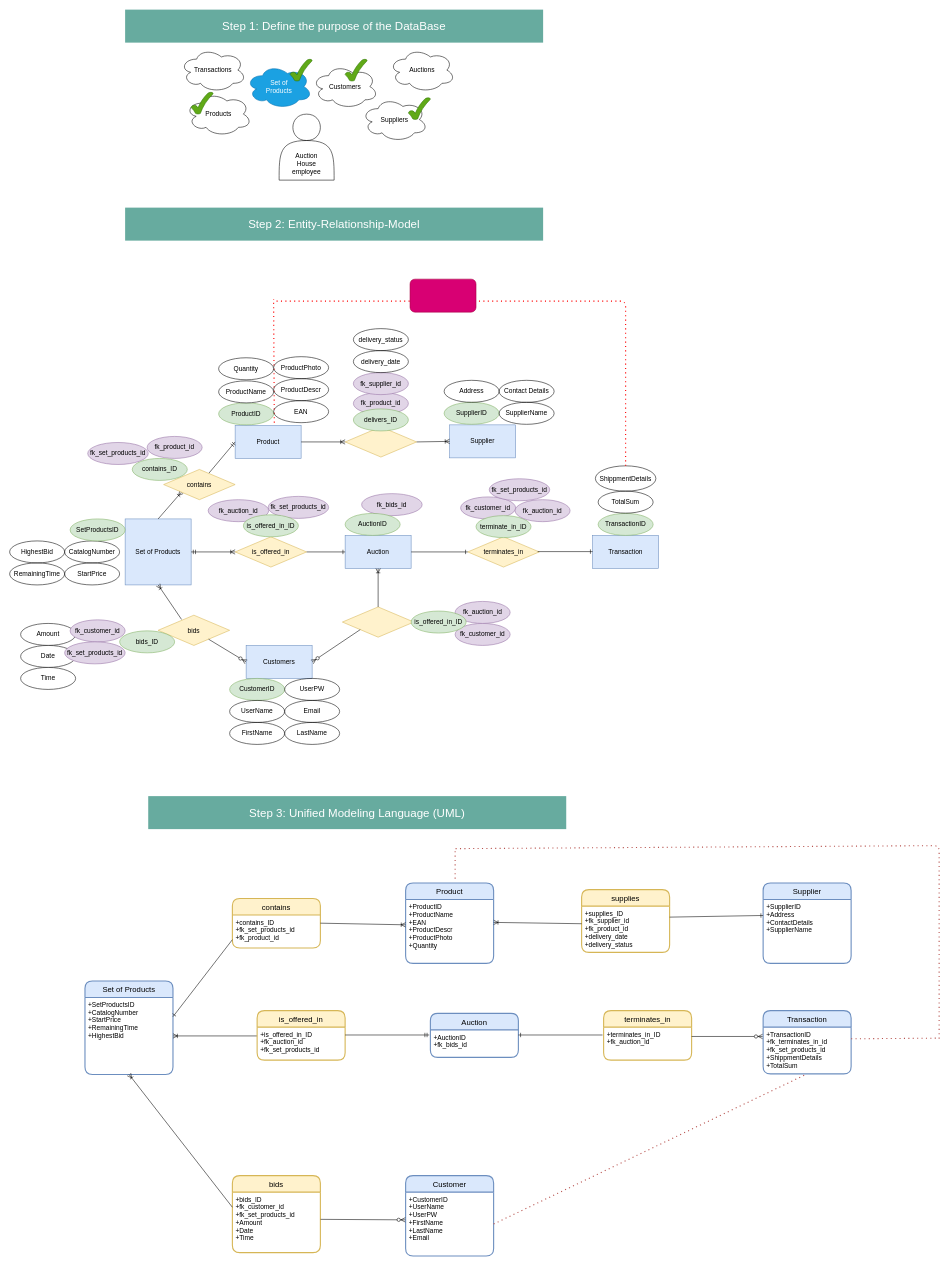
The diagram is 950 pixels wide and 1266 high, and some of its shapes have lost their labels. The centre of each missing label's shape, as x and y in pixels:
"add function later to update stock" belongs at point 442,295.
"delivers" belongs at point 381,441.
"takes_part" belongs at point 378,621.
